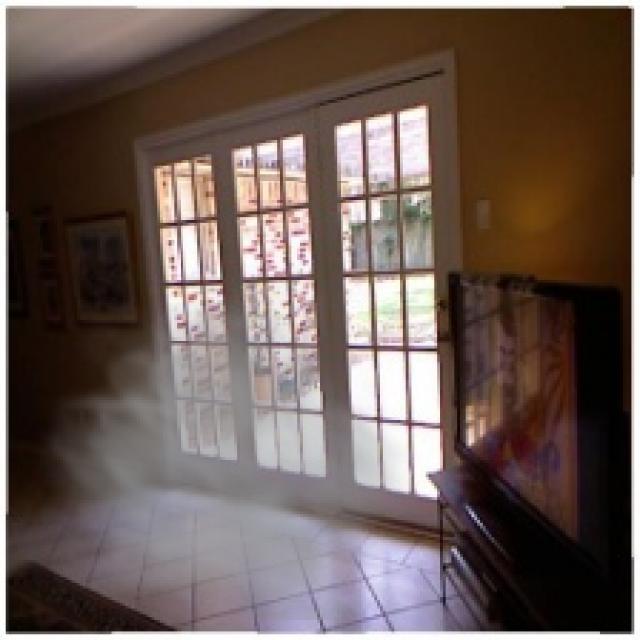Smoke: (28, 263, 423, 620)
